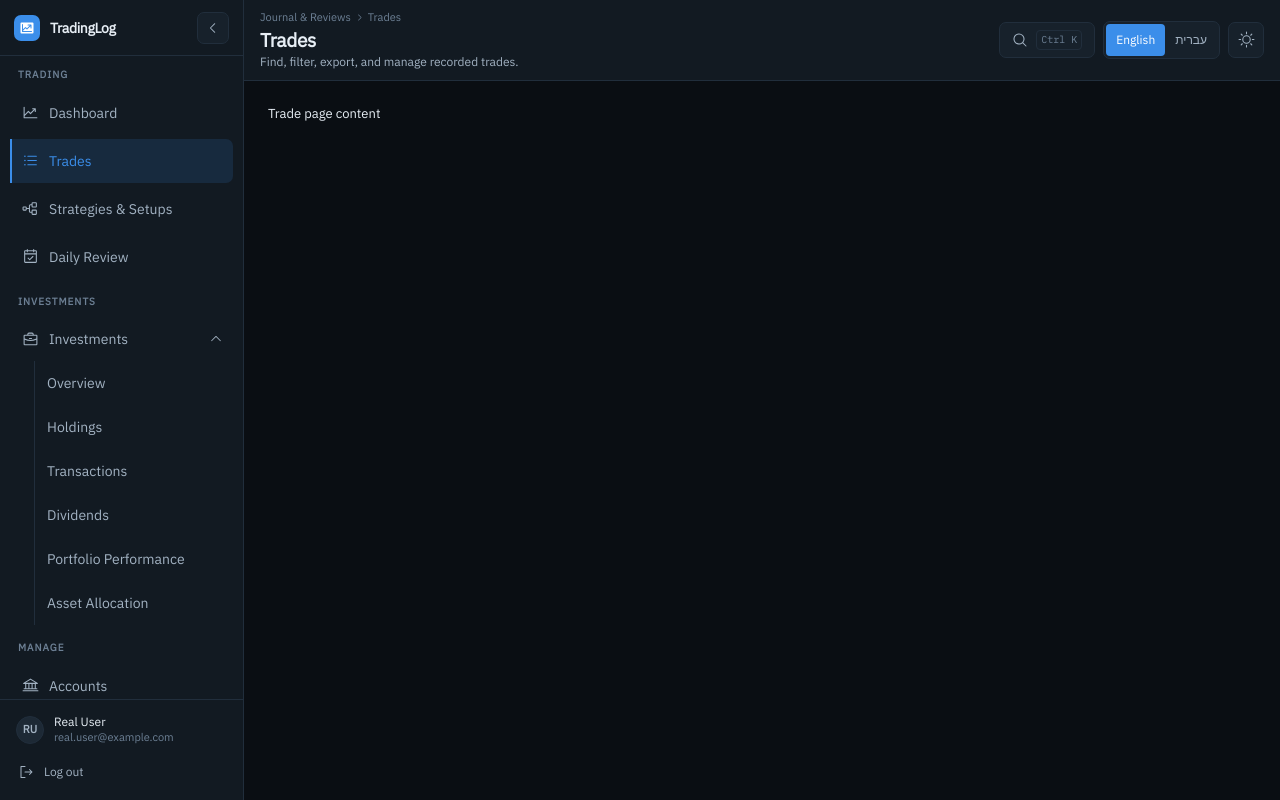
Test: AppShell › navigates the global New journal entry command with a truthful form instruction
The image size is (1280, 800).
Step 1. Click the button with aria-label "Search or run a command" → (1047, 40), box [999,22,1095,58]
(page scrolled)
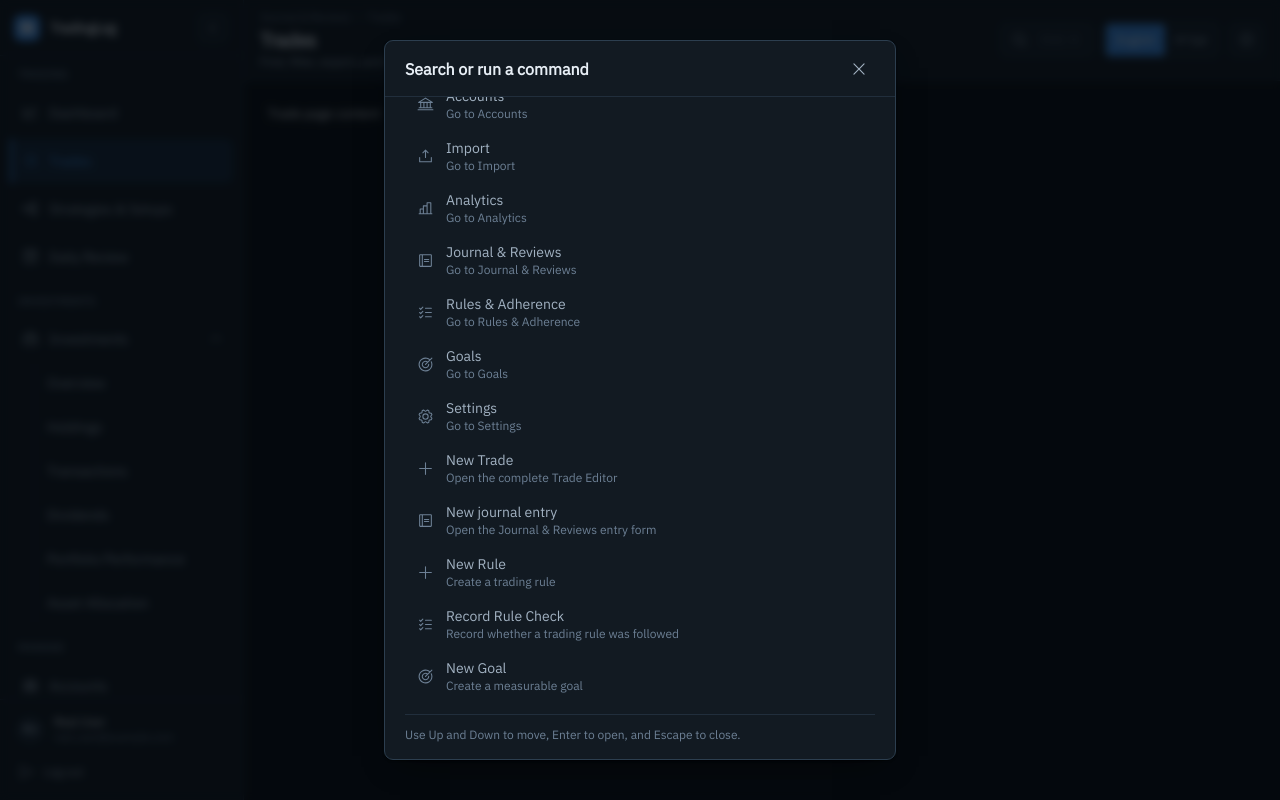
Step 2. Click the option "New journal entry Open the Journal & Reviews entry form" → (640, 520), box [405,494,875,546]
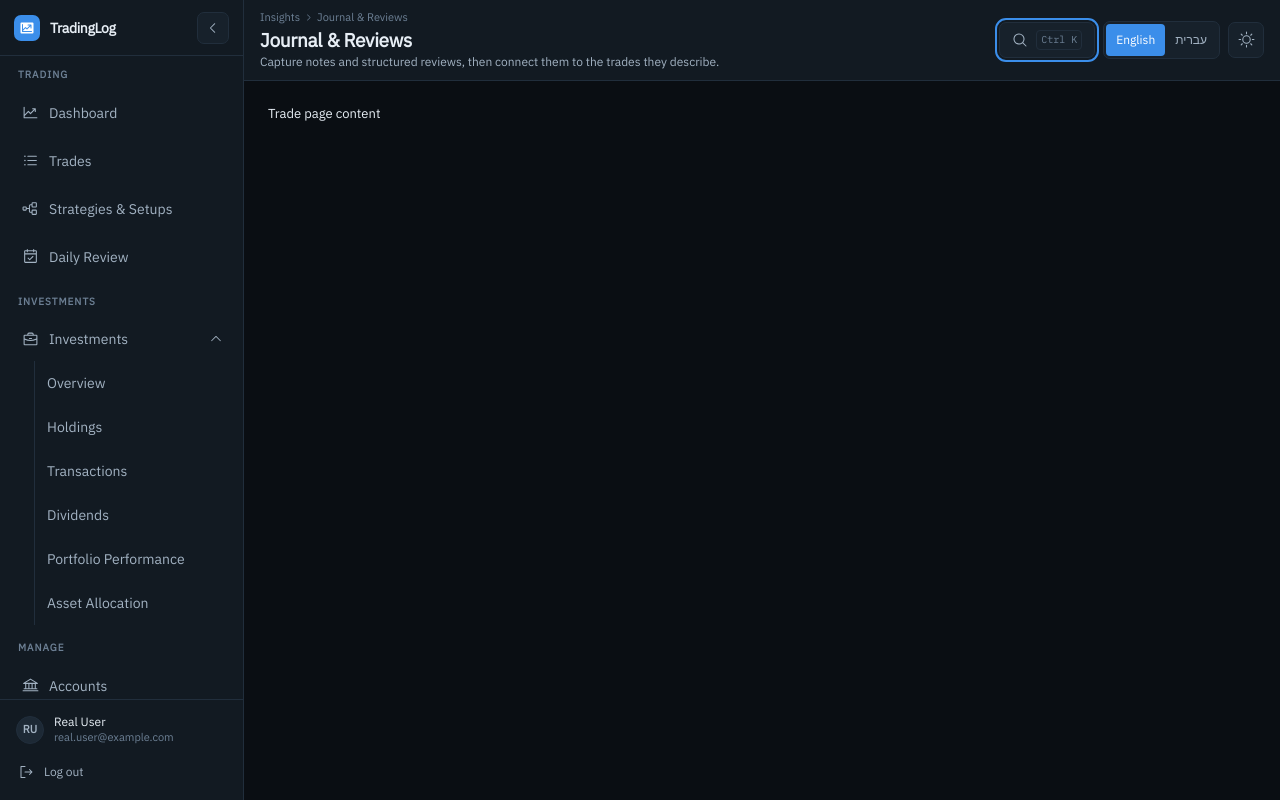
Expected: the heading "Journal & Reviews" is shown, [260,28,412,52]
